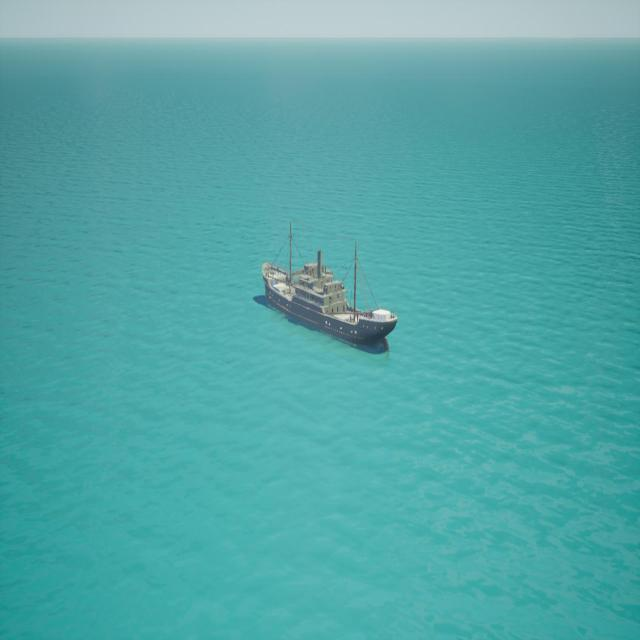fishing ship: (257, 225, 399, 355)
